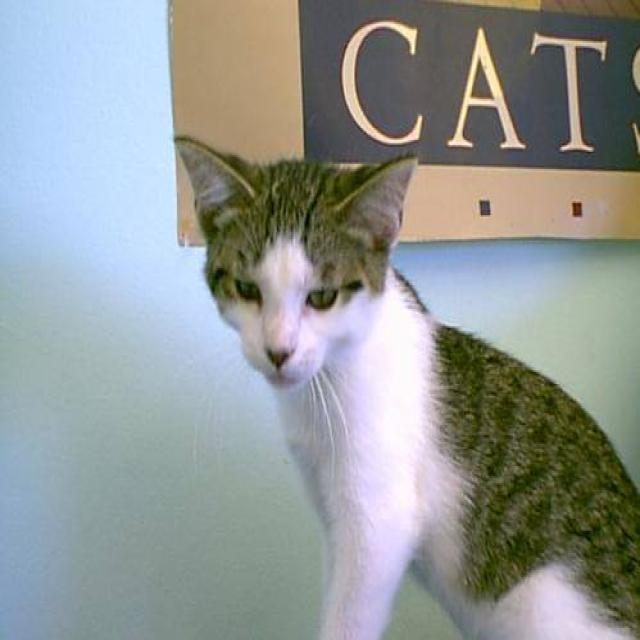cat: (173, 133, 639, 638)
